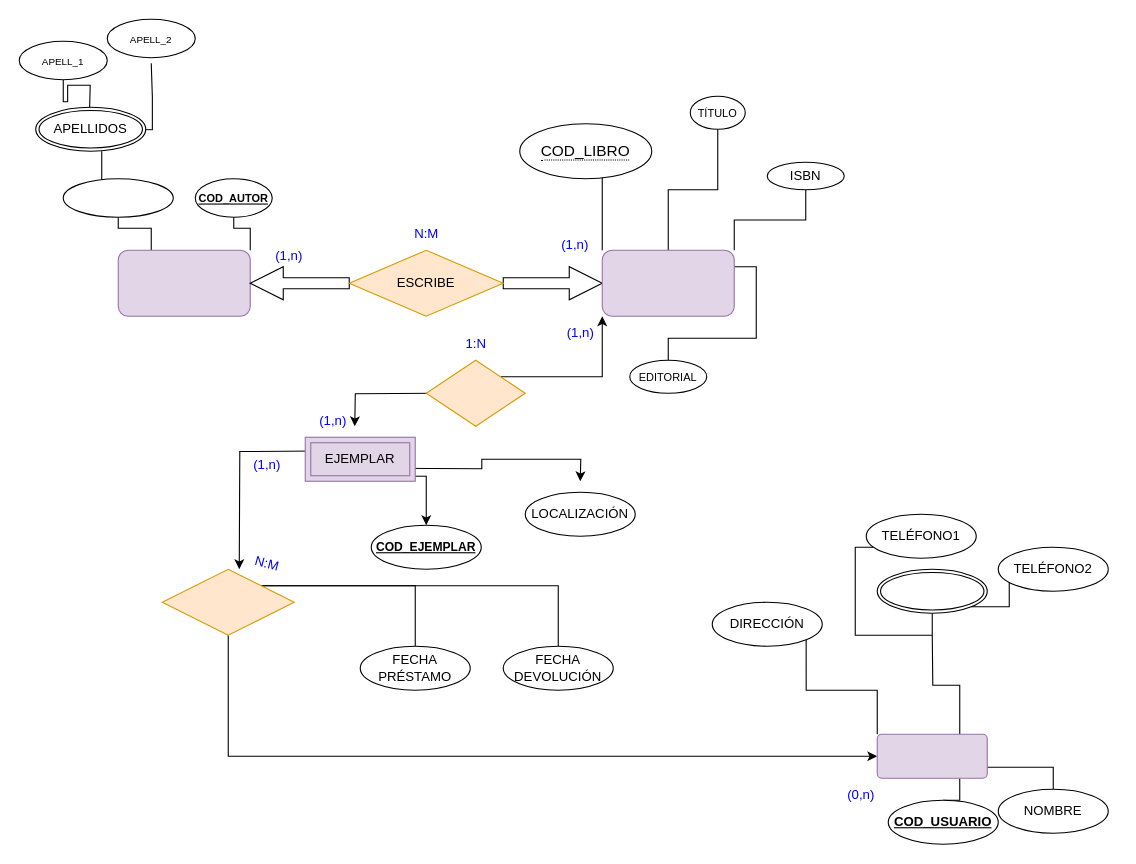
Image size: 1136x864. Some labels were removed from this diagram. The shapes that lost their labels are listed below. From the top down, each one's box as (x1, y1, x2, y2) in pixels, then its label:
(62, 178, 173, 217): NOMBRE_AUTOR
(117, 249, 250, 316): AUTOR
(601, 249, 734, 316): LIBRO
(425, 359, 525, 426): TIENE
(161, 568, 294, 635): PRÉSTAMO
(876, 568, 987, 613): TELÉFONO
(876, 733, 987, 778): USUARIO
